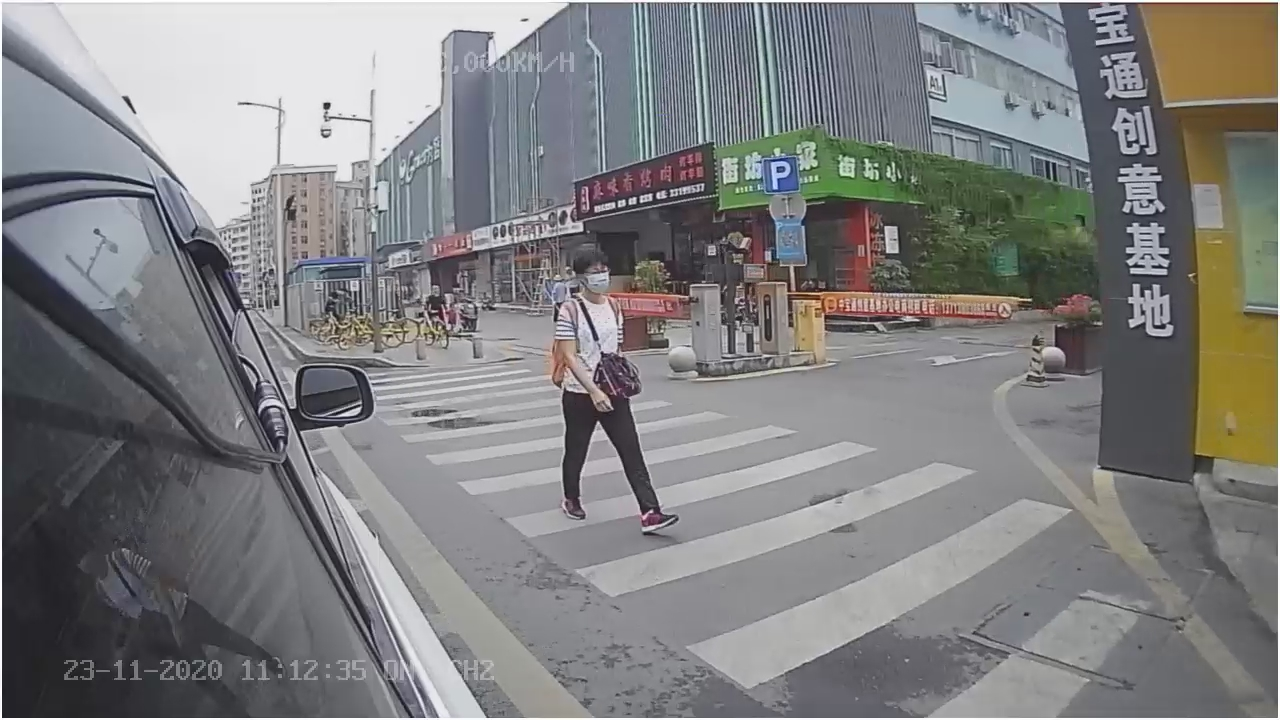person: (544, 240, 680, 548)
